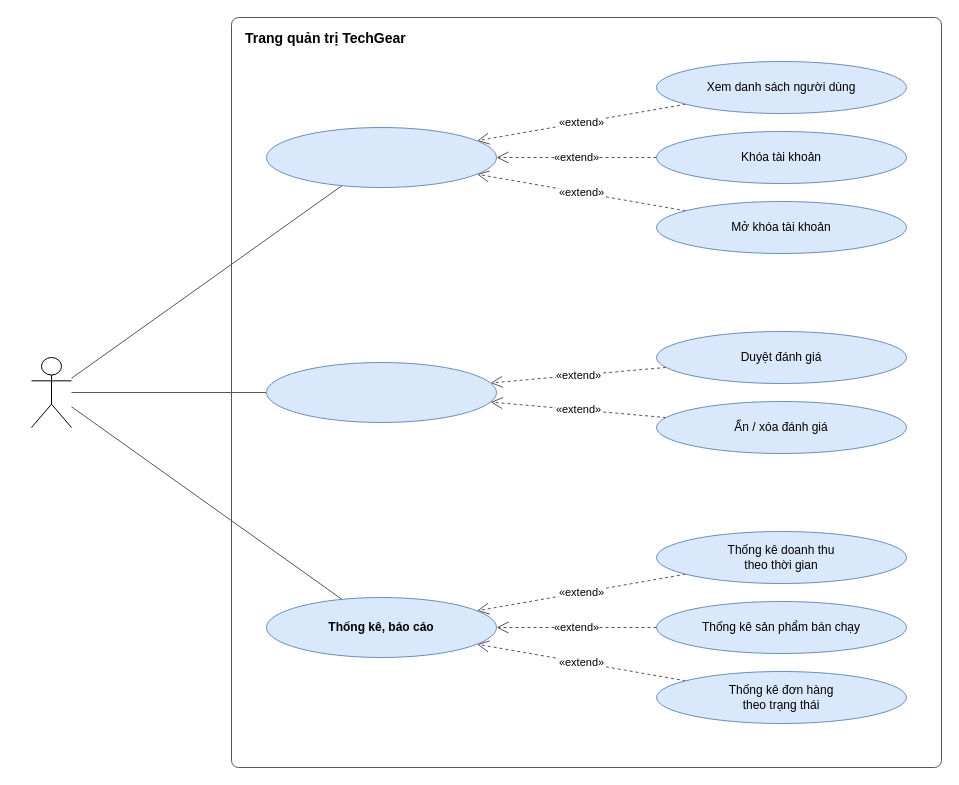
The diagram is 959 pixels wide and 785 high, and some of its shapes have lost their labels. The shapes that lost their labels are listed below. From the top down, each one's centre as x and y in pixels, then its label:
At (x=381, y=157): "Quản lý người dùng".
At (x=51, y=392): "Quản trị viên".
At (x=381, y=392): "Quản lý đánh giá".
